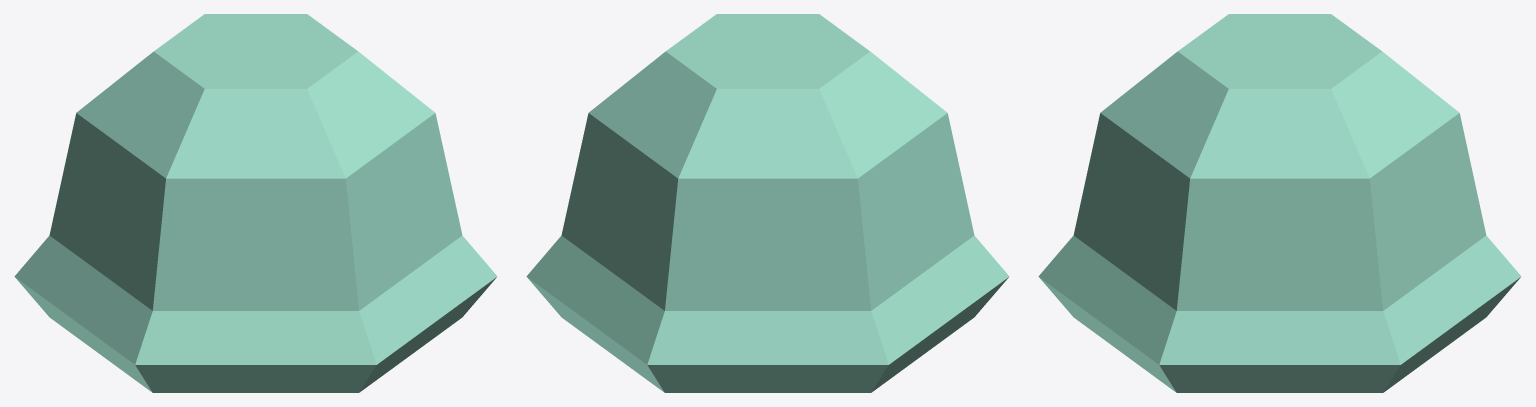
3 views of the same model, side by side, from view 1: azimuth 30°, elevation 25°; view 2: azimuth 150°, elevation 25°; view 3: azimuth 270°, elevation 25° (orthographic).
Visible parts, largest first — view 1: iceCreamScoopMint; view 2: iceCreamScoopMint; view 3: iceCreamScoopMint.
Part boxes in pixels (left/top/right/bottom): iceCreamScoopMint: left=14, top=14, right=497, bottom=392; iceCreamScoopMint: left=526, top=14, right=1009, bottom=392; iceCreamScoopMint: left=1038, top=14, right=1521, bottom=392.
Bounding box in the file's own units: 0.2353 × 0.165 × 0.2716.
